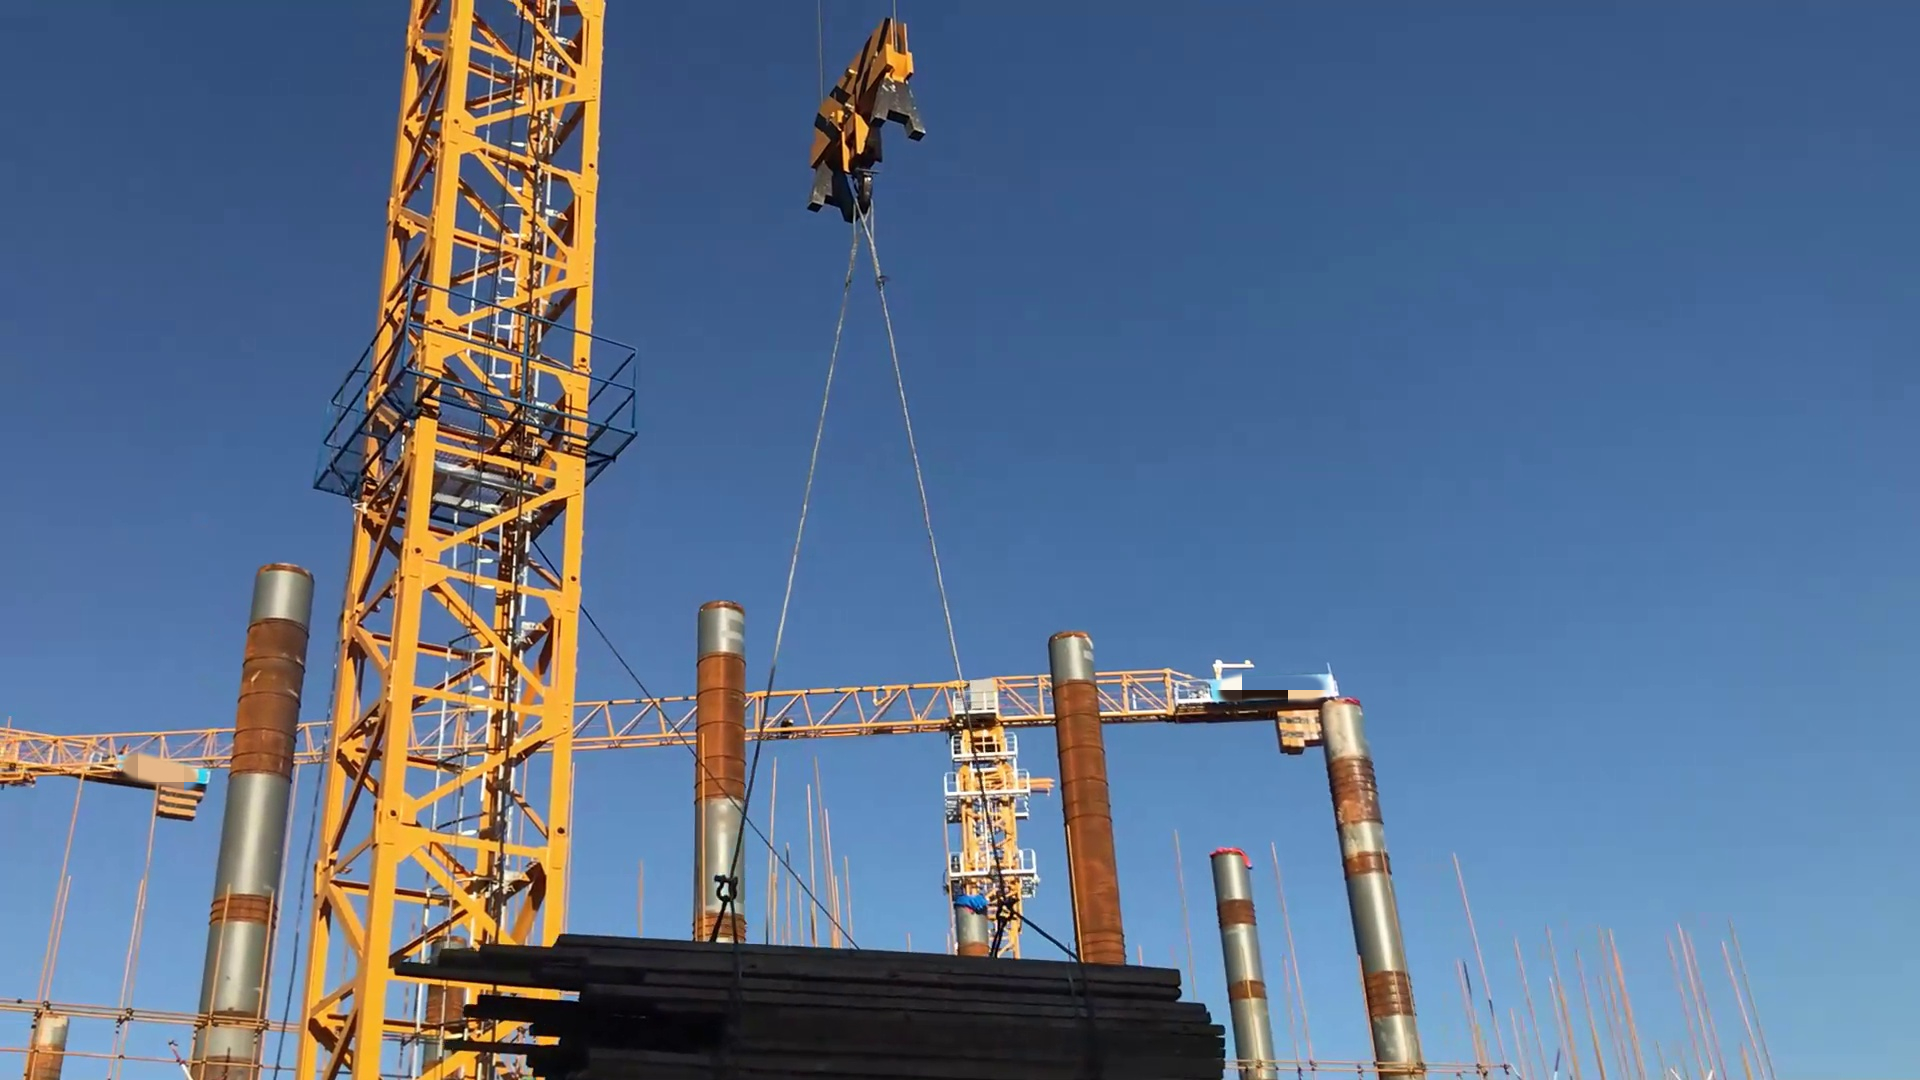hook: (810, 18, 922, 218)
wood: (392, 935, 1226, 1080)
